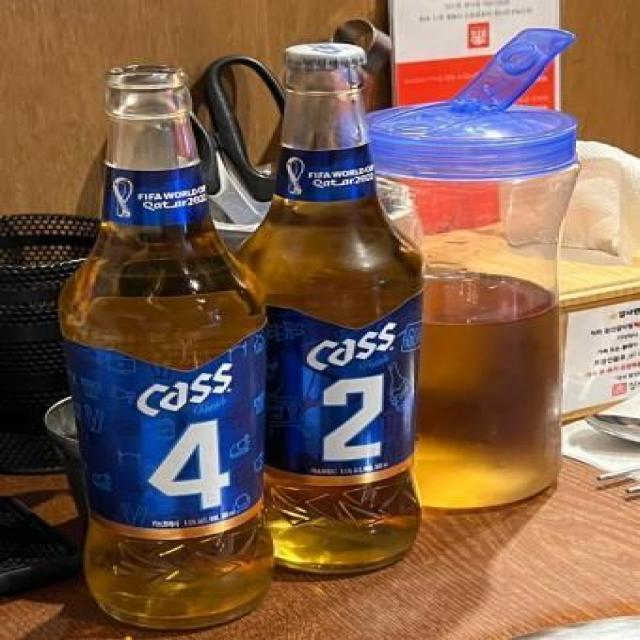beer-bottle: (62, 64, 290, 632), (239, 41, 444, 572)
